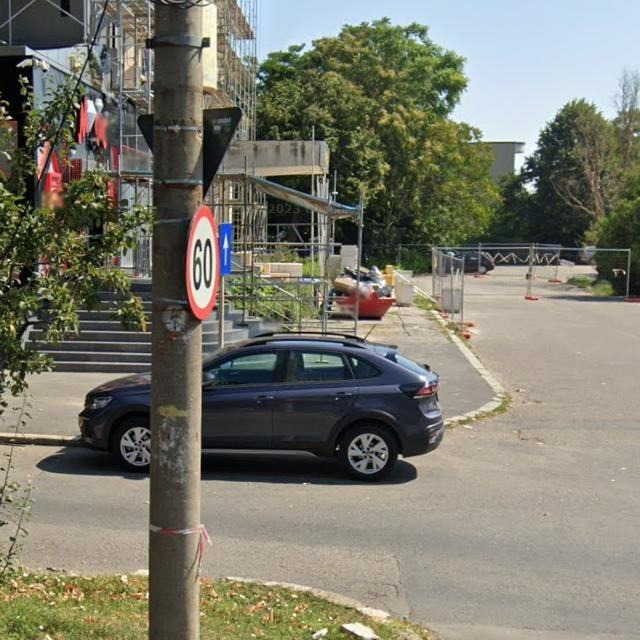forb_speed_over_60: (185, 205, 219, 320)
